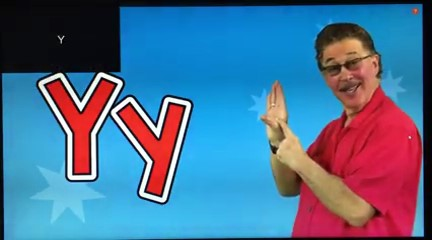Y: (255, 74, 317, 175)
